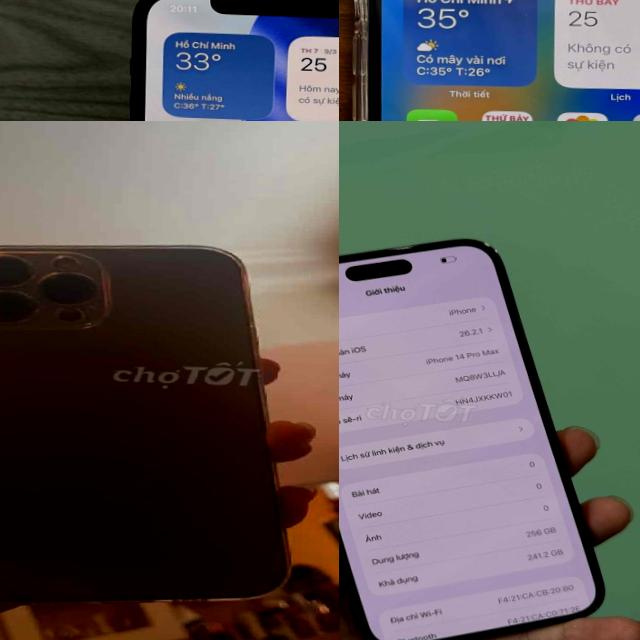gen_12_13: (0, 231, 307, 618), (108, 0, 339, 121)
gen_14: (339, 231, 624, 640)
gen_x_xs: (339, 0, 640, 121)
